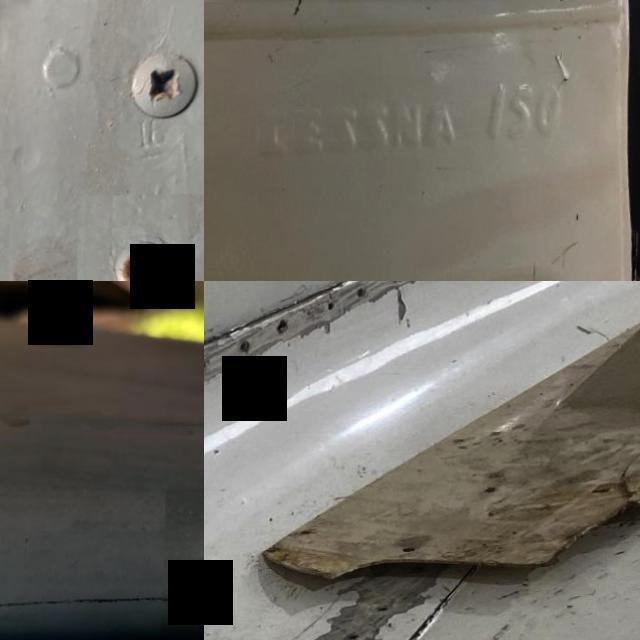Crack: (253, 281, 487, 307), (540, 23, 598, 108), (266, 0, 321, 36)
Dent: (163, 488, 204, 634)
Missing_Fastener: (78, 195, 204, 281), (237, 339, 255, 356), (378, 604, 398, 618), (204, 359, 212, 372)
